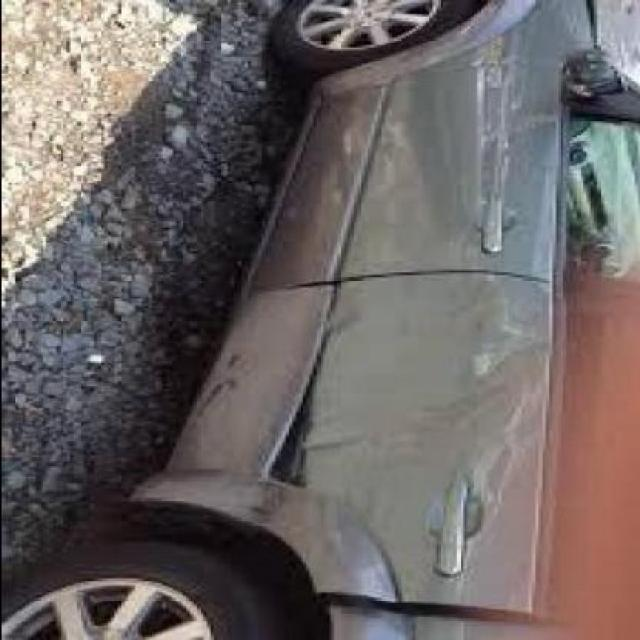damage: (130, 261, 563, 624)
